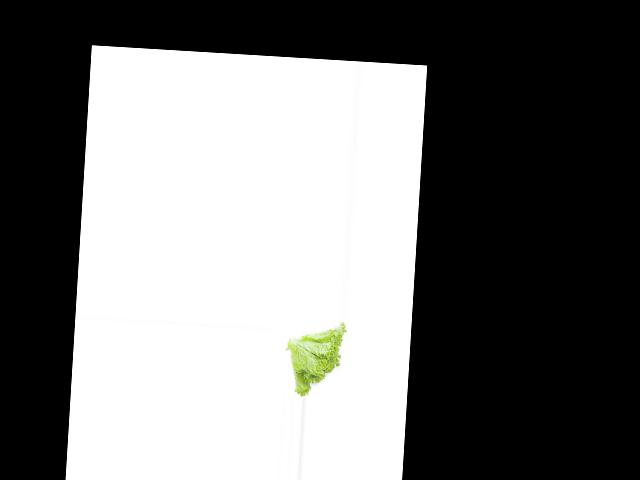lettuce: (284, 318, 348, 399)
